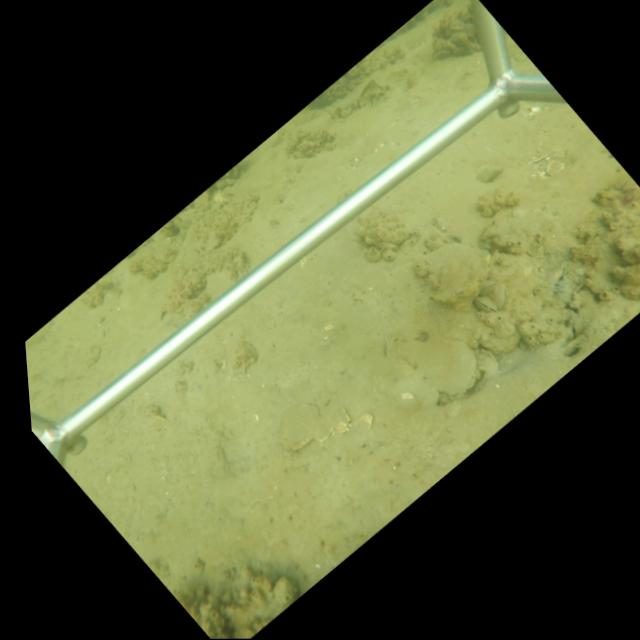Oyster-Closed: (395, 337, 486, 396), (422, 240, 495, 304), (473, 294, 501, 315), (492, 282, 510, 311), (475, 277, 499, 296)
